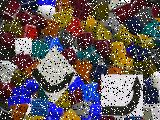Left: (31, 45, 78, 104), (101, 74, 143, 116)
